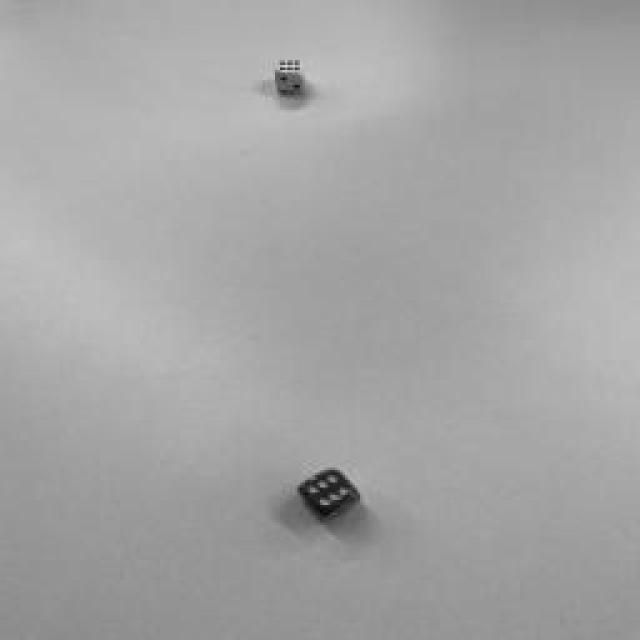dice_6: (302, 471, 358, 514), (275, 58, 305, 72)
